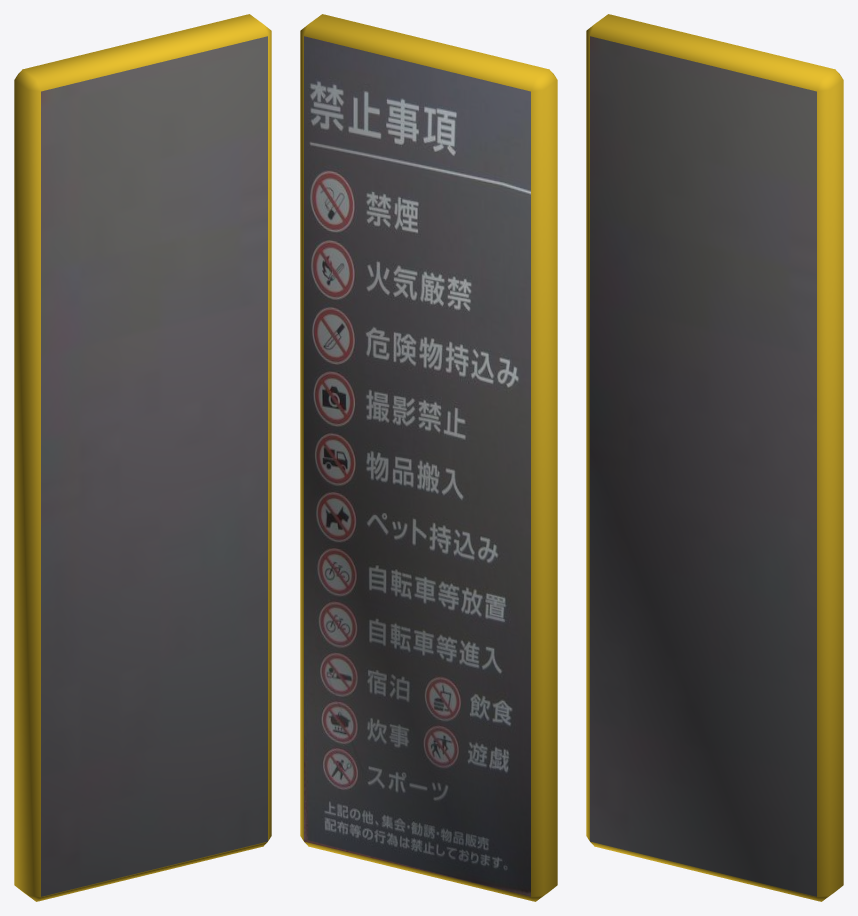
File: kinnsikannbaann.fbx
3 renders of one model, left to right at view 1: azimuth 30°, elevation 25°; view 2: azimuth 150°, elevation 25°; view 3: azimuth 330°, elevation 25°, orthographic.
Visible parts, largest first — view 1: kannbann; view 2: kannbann; view 3: kannbann.
Boxes of the visible parts, x1=… form: kannbann: x1=14, y1=14, x2=271, y2=901; kannbann: x1=300, y1=14, x2=557, y2=901; kannbann: x1=586, y1=14, x2=843, y2=901.
Bounding box in the file's own units: 309 × 998 × 51.24.
